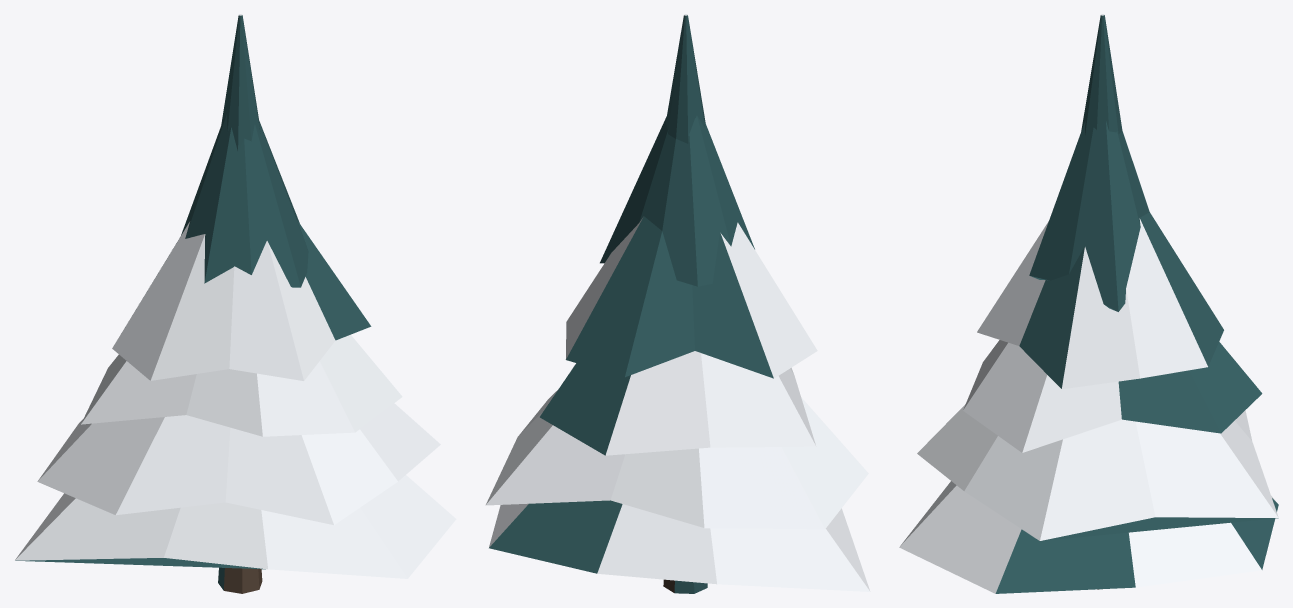
File: pine_a.glb
3 views of the same model, side by side, from view 1: azimuth 30°, elevation 25°; view 2: azimuth 150°, elevation 25°; view 3: azimuth 270°, elevation 25° (orthographic).
Parts seen in each view (by area): view 1: pine_a; view 2: pine_a; view 3: pine_a.
Boxes of the visible parts, bbox=[...] form: pine_a: bbox=[15, 14, 456, 593]; pine_a: bbox=[485, 14, 870, 593]; pine_a: bbox=[899, 14, 1278, 593].
Bounding box in the file's own units: 6.44 × 9.37 × 5.7.
